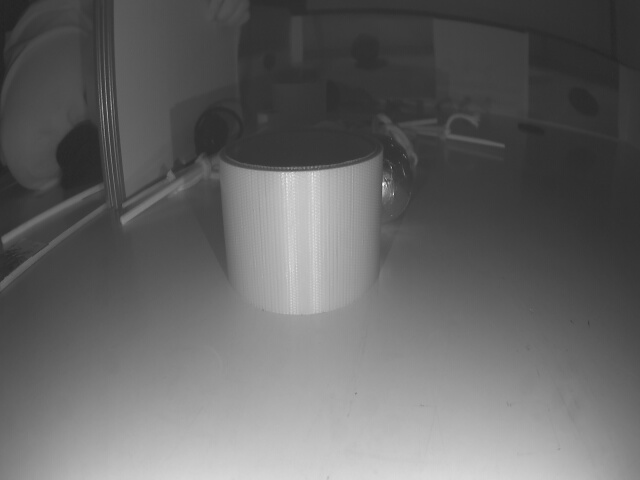Live: (373, 137, 414, 222)
